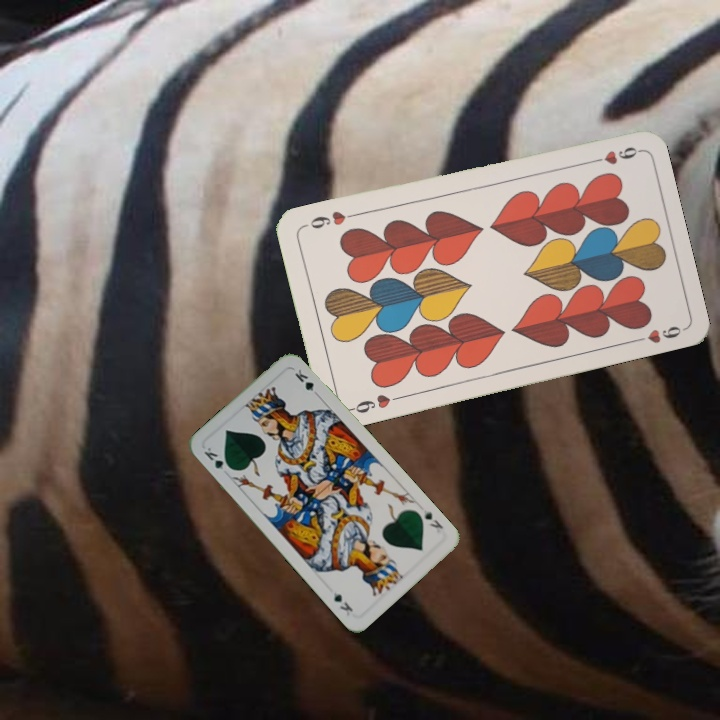GK: (200, 443, 235, 473), (419, 505, 446, 532)
H9: (344, 390, 403, 416), (583, 142, 641, 167)
